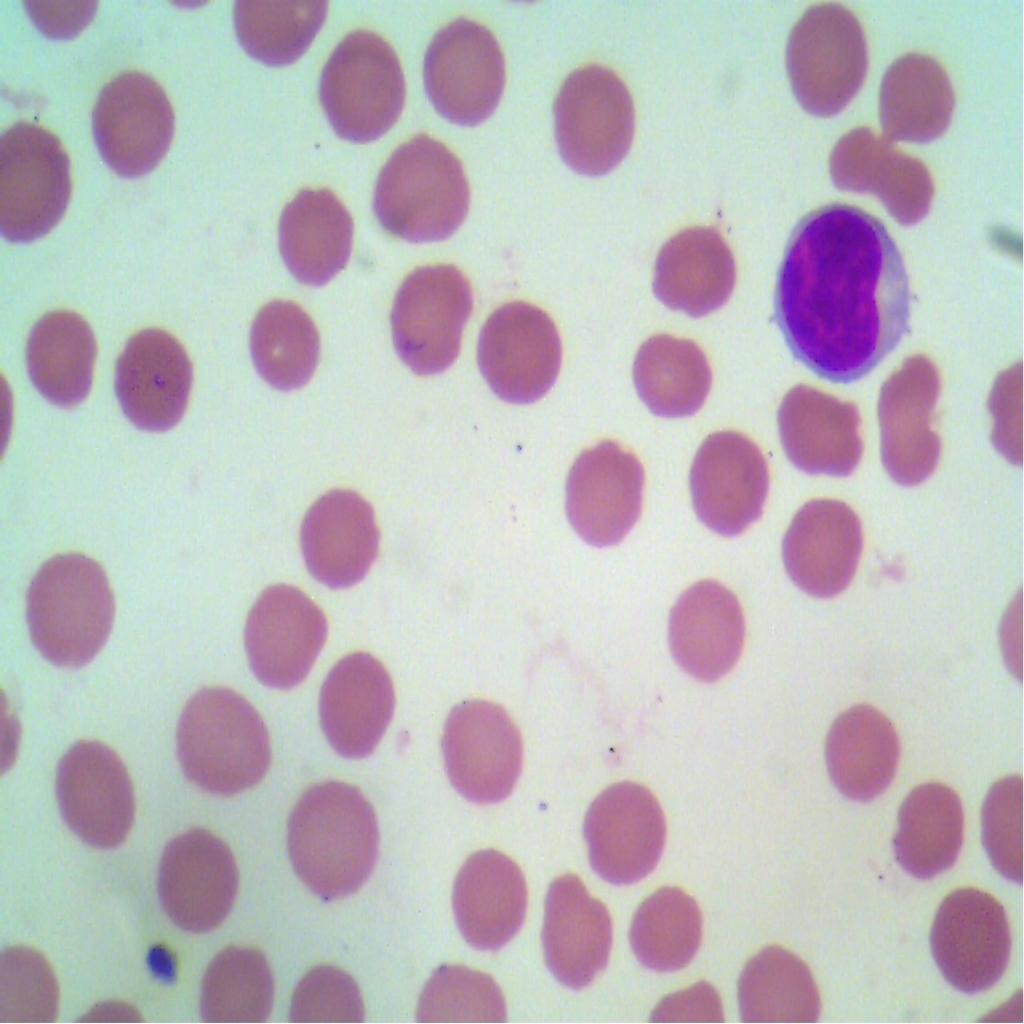Eritrosit: (814, 118, 948, 246), (283, 765, 382, 914), (549, 428, 651, 570), (676, 421, 782, 555), (541, 56, 650, 186), (758, 372, 876, 492), (366, 130, 484, 248), (526, 848, 614, 1005), (23, 544, 121, 684), (871, 346, 958, 501), (315, 29, 421, 148), (384, 255, 481, 385), (918, 884, 1022, 1005), (166, 684, 278, 794), (572, 781, 678, 897), (470, 280, 566, 408), (0, 106, 86, 248), (86, 58, 182, 181), (815, 695, 913, 814), (618, 864, 718, 980), (776, 0, 870, 122), (114, 311, 199, 445), (423, 15, 513, 141), (4, 301, 103, 415), (240, 577, 330, 701), (662, 568, 751, 691), (875, 40, 971, 154), (316, 635, 398, 768), (289, 478, 383, 594), (438, 691, 526, 814), (620, 316, 718, 426), (651, 214, 746, 326), (889, 770, 976, 889), (149, 817, 239, 930), (55, 732, 138, 851), (778, 503, 874, 605), (241, 301, 338, 398), (278, 182, 360, 292), (449, 838, 528, 948), (186, 941, 288, 1023), (735, 928, 821, 1023)
Limfoblast: (766, 184, 920, 390)
Platelet: (141, 938, 179, 988)
